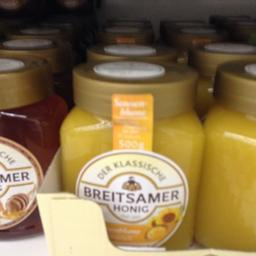honey: (54, 58, 204, 254)
